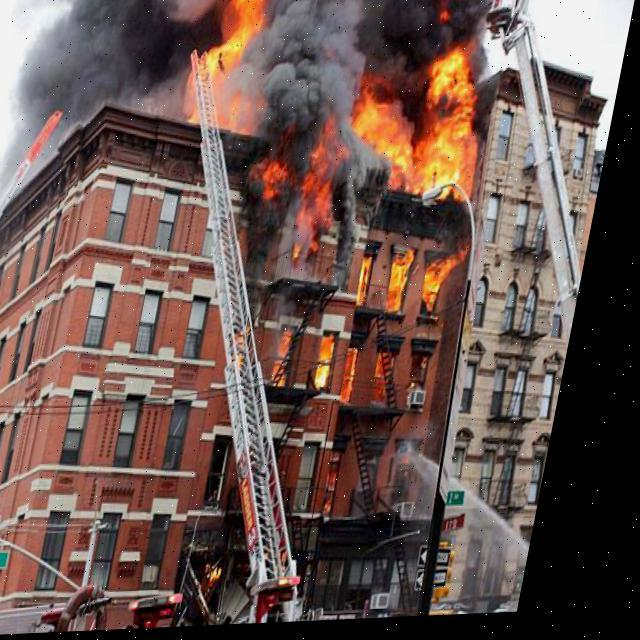Fire: (142, 0, 514, 403)
